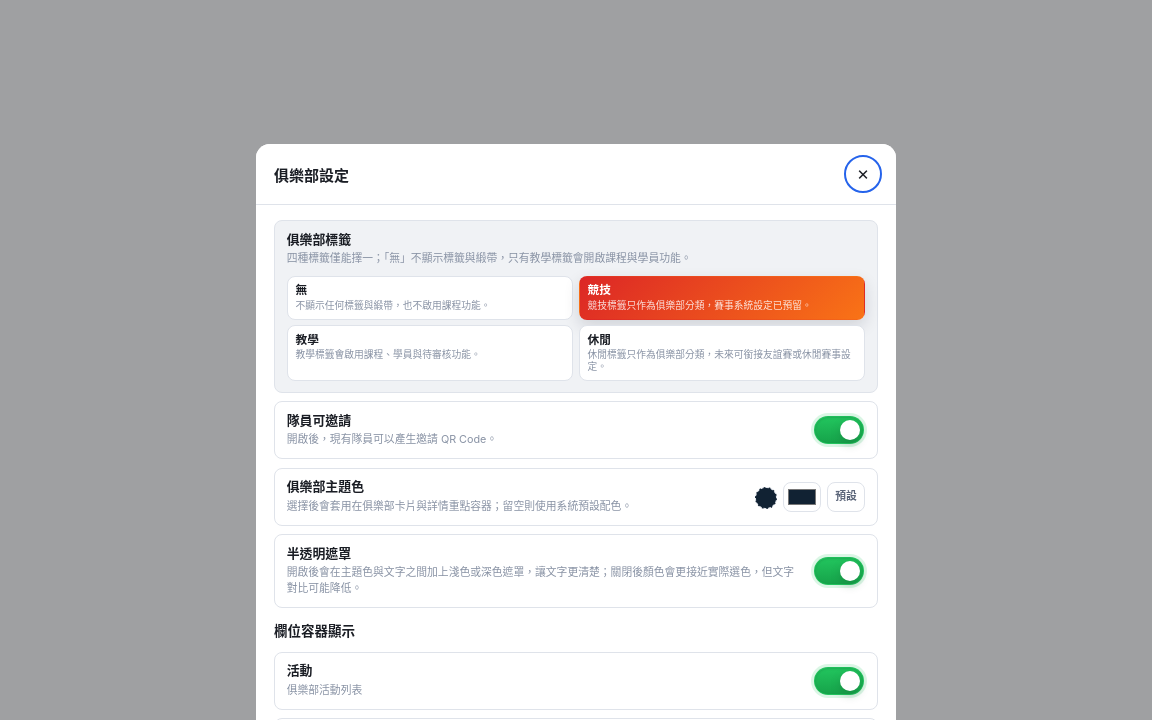
俱樂部設定彈窗 › 圓點使用 team 主題色，預設按鈕寫入 null
Expected: the colour field named "俱樂部主題色" holds "#112233", [783, 482, 821, 512]
Step 1. Click the button "預設" → point(846, 497), box [827, 482, 865, 512]
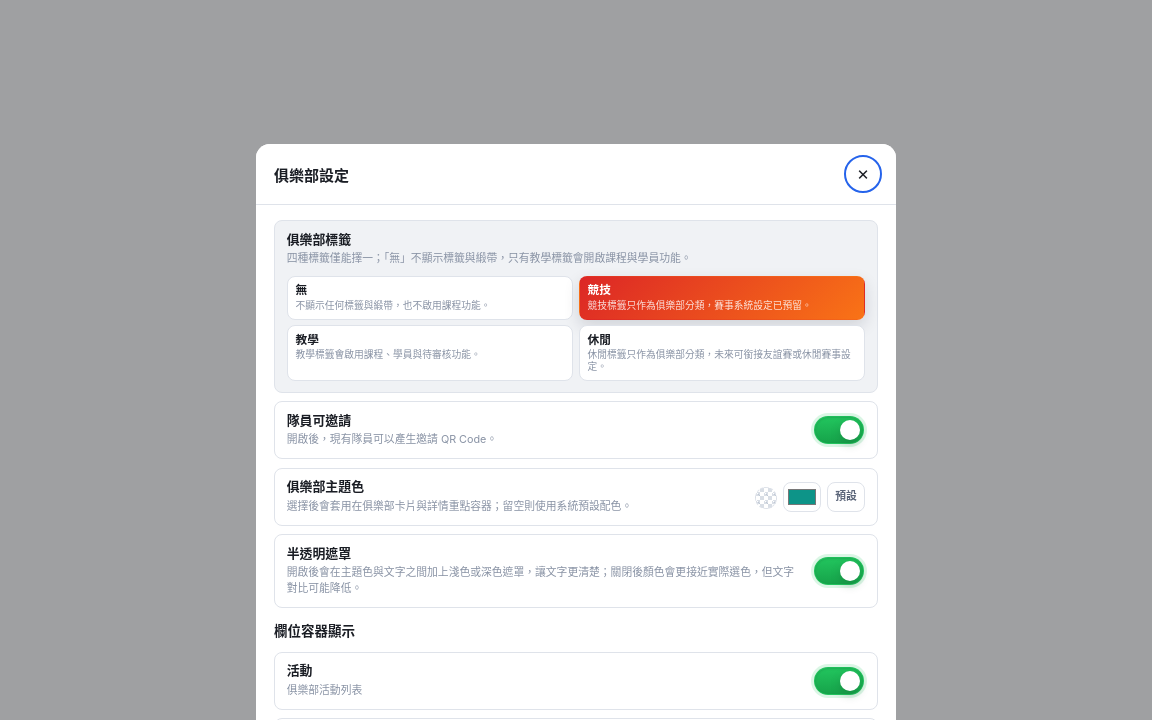
Result: the colour field named "俱樂部主題色" holds "#0d9488" at [783, 482, 821, 512]
